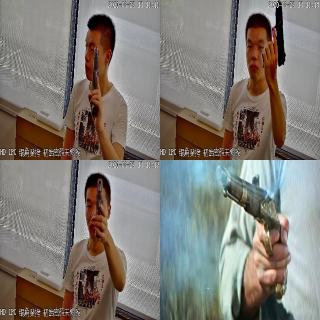gun: (215, 162, 289, 301), (260, 0, 285, 68), (86, 177, 110, 240), (84, 45, 102, 115)
